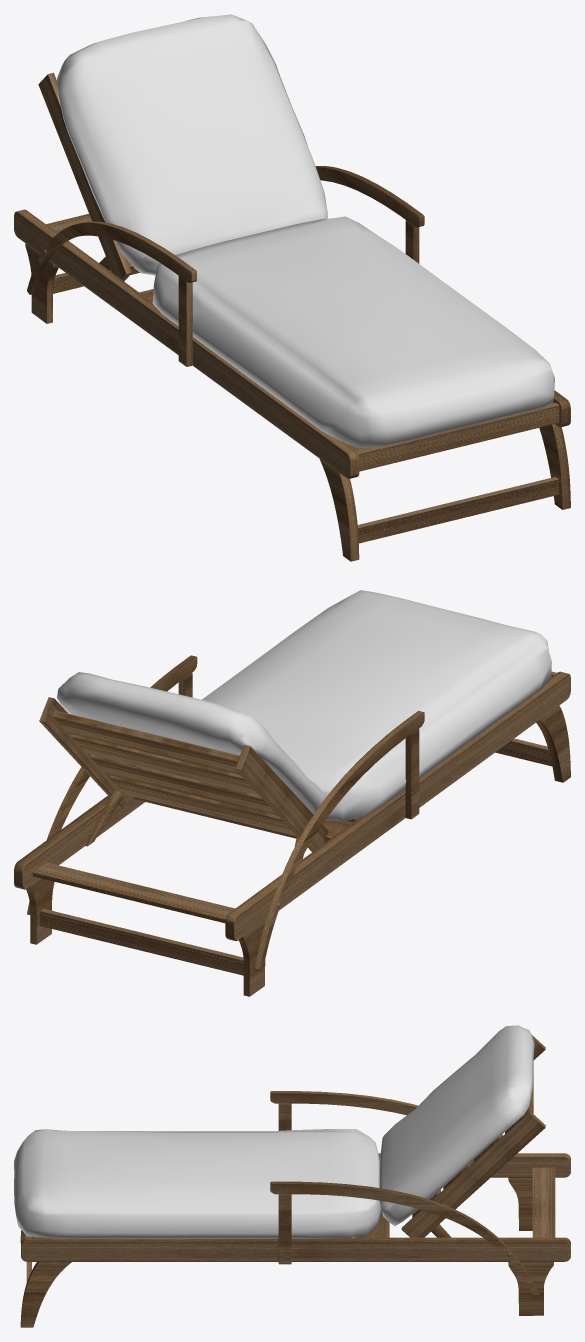
File: chaise_jardin.glb
The picture shows the model from 3 angles, top to bottom: view 1: azimuth 30°, elevation 25°; view 2: azimuth 150°, elevation 25°; view 3: azimuth 270°, elevation 25°; orthographic projection. The views are drawn at different scales.
Visible parts, largest first — view 1: Low-shalta_shalta_0, arch22_005_56_04 - Default_0; view 2: Low-shalta_shalta_0, arch22_005_56_04 - Default_0; view 3: Low-shalta_shalta_0, arch22_005_56_04 - Default_0.
Part boxes in pixels (<box>): Low-shalta_shalta_0: <box>57,14,554,448</box>; arch22_005_56_04 - Default_0: <box>14,72,570,561</box>; Low-shalta_shalta_0: <box>57,590,551,821</box>; arch22_005_56_04 - Default_0: <box>14,655,570,996</box>; Low-shalta_shalta_0: <box>14,1025,534,1238</box>; arch22_005_56_04 - Default_0: <box>20,1034,570,1327</box>.
Bounding box in the file's own units: 76.15 × 87.7 × 191.
Materials: 2 (2 with a texture image).
